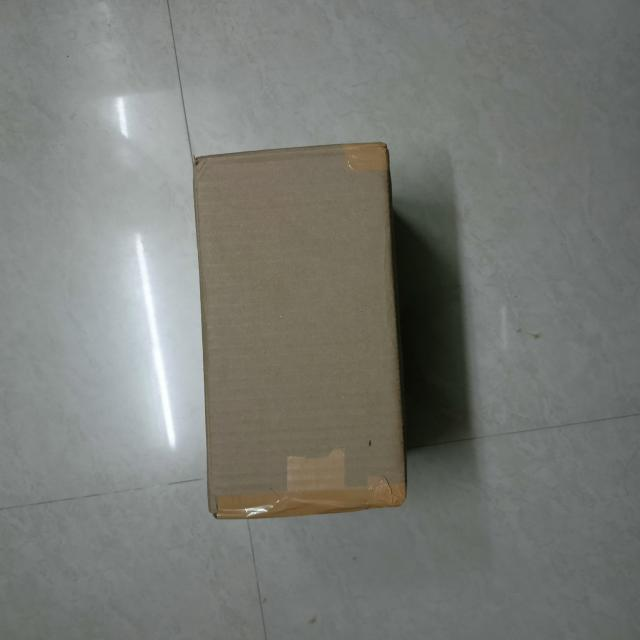box: (196, 141, 401, 514)
